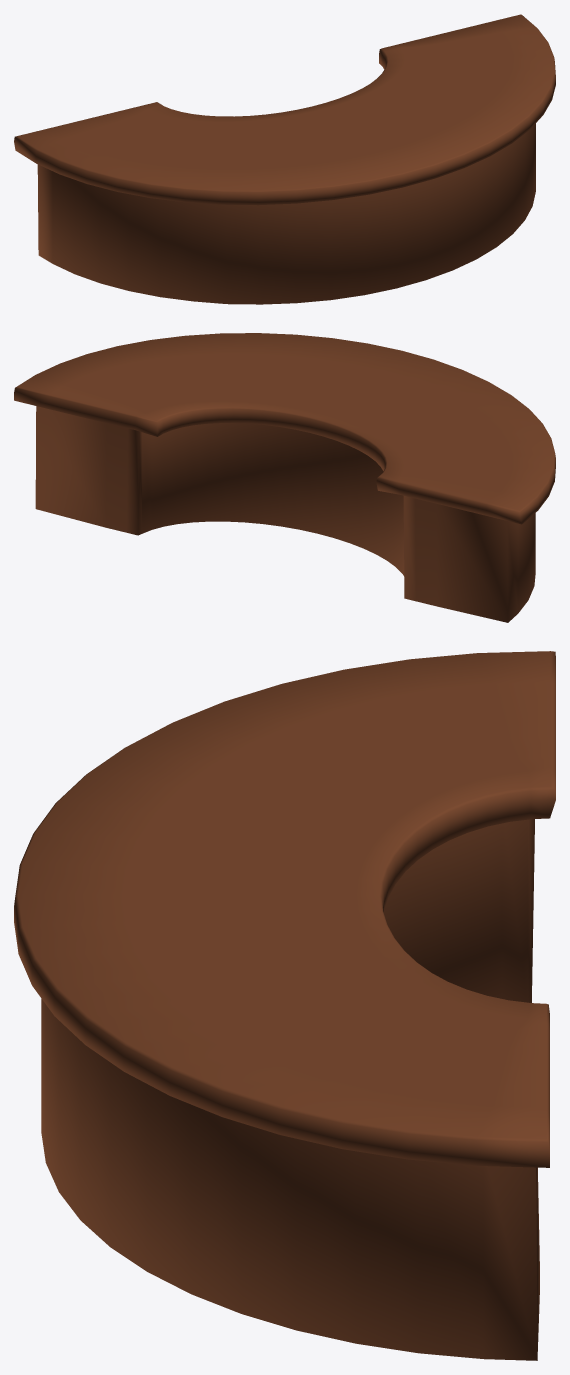
Rendered from Desk.fbx.
The picture shows the model from 3 angles, top to bottom: view 1: azimuth 30°, elevation 25°; view 2: azimuth 150°, elevation 25°; view 3: azimuth 270°, elevation 25°; orthographic projection. The views are drawn at different scales.
Visible parts, largest first — view 1: Desk; view 2: Desk; view 3: Desk.
Boxes of the visible parts, box(x1,y1,x2,y2) form: Desk: box(14, 14, 555, 304); Desk: box(14, 333, 555, 622); Desk: box(14, 651, 555, 1360).
Size of the model in its own units: 17219 by 3921 by 8023.
